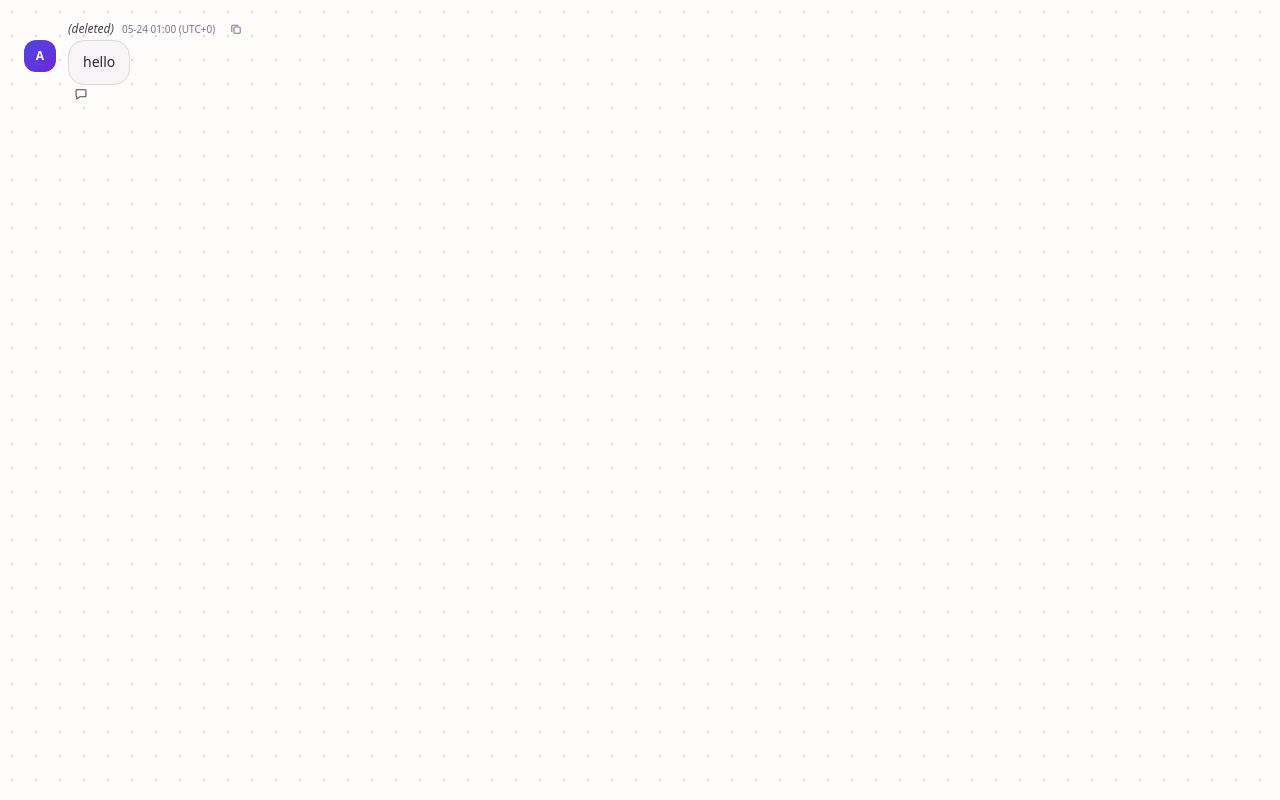
Test: MessageList sender-detail sidebar (increment 2) › clicking the sender avatar button also opens the sidebar
The width and height of the screenshot is (1280, 800).
Click the button with test id "message-sender-avatar-button" at {"x": 40, "y": 56}, box [24, 40, 56, 72]
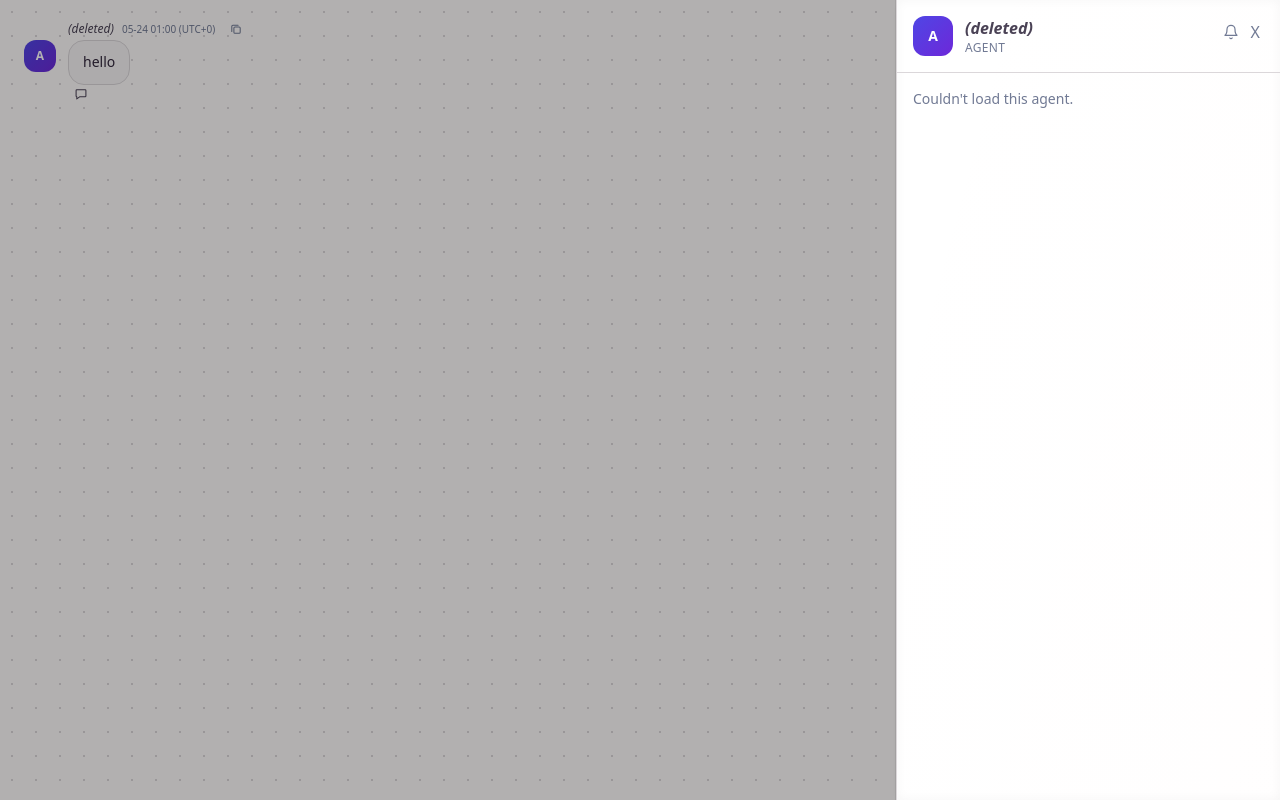
Expected: the dialog with test id "sender-sidebar" is shown, [896, 0, 1279, 799]
